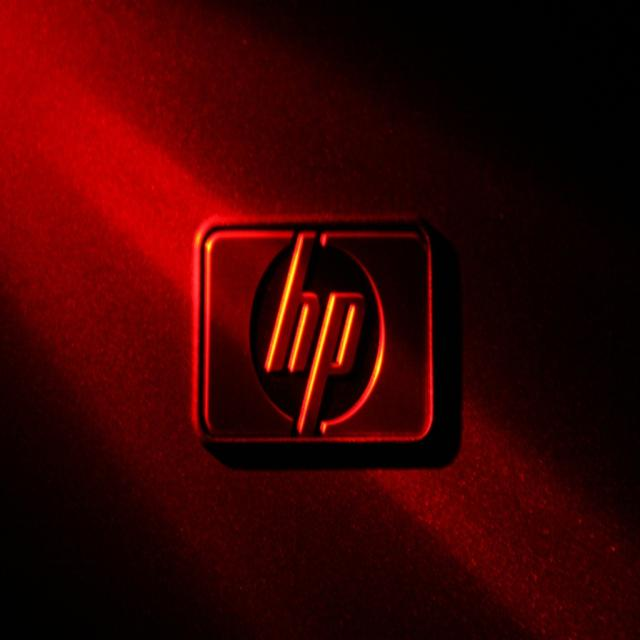HP: (199, 220, 445, 454)
